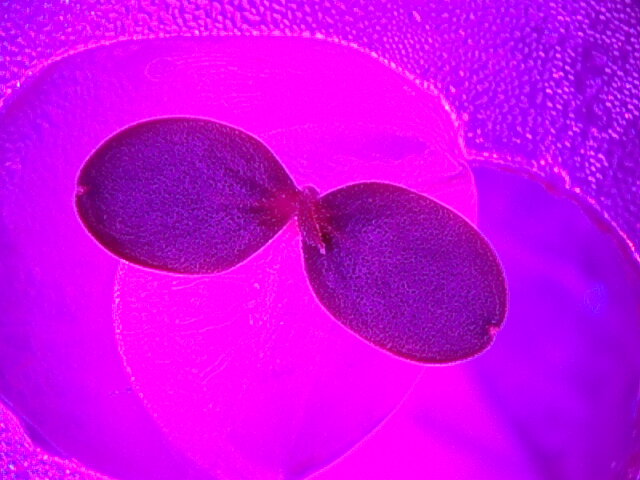seedling: (88, 99, 498, 373)
